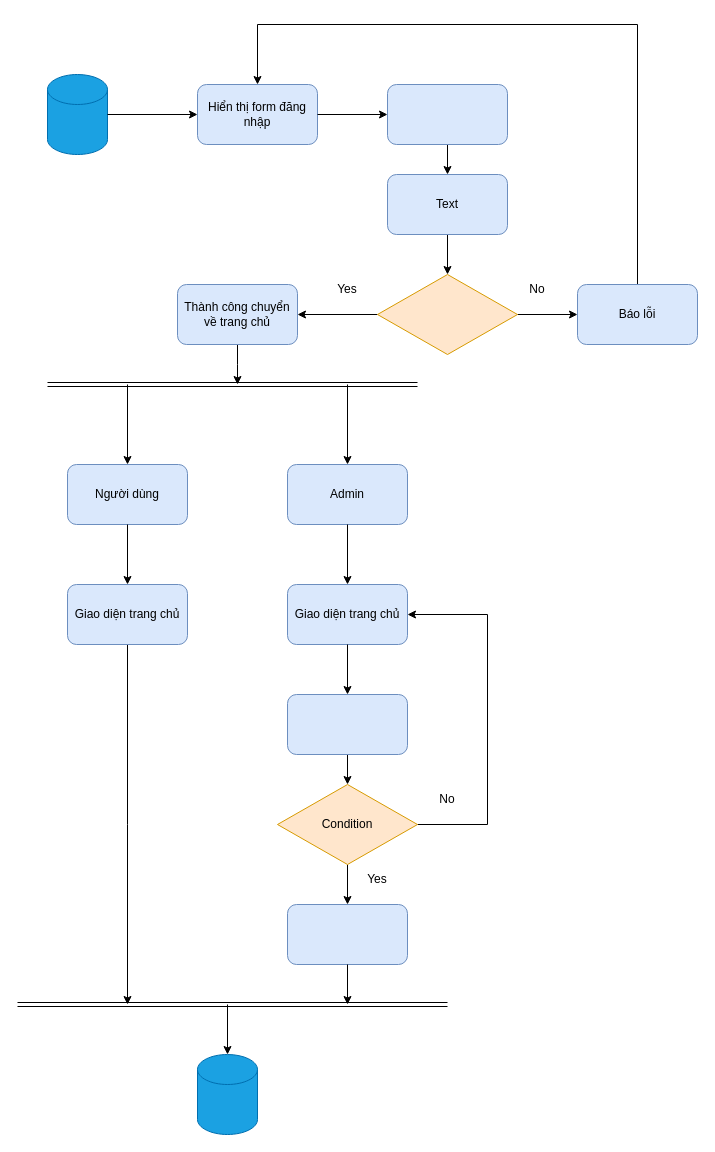
This 715x1152 diagram has some shape labels left out. The shapes that lost their labels are listed below. From the top down, each one's box as (x1, y1, x2, y2) in pixels, then its label:
(386, 84, 508, 144): Nhập thông tin
(376, 274, 518, 354): Kiểm tra
(286, 694, 408, 754): Click vào đăng nhập với tư cách admin
(286, 904, 408, 964): Chuyển đến trang chủ admin
